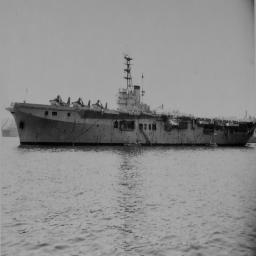Portanaves: (6, 54, 256, 151)
